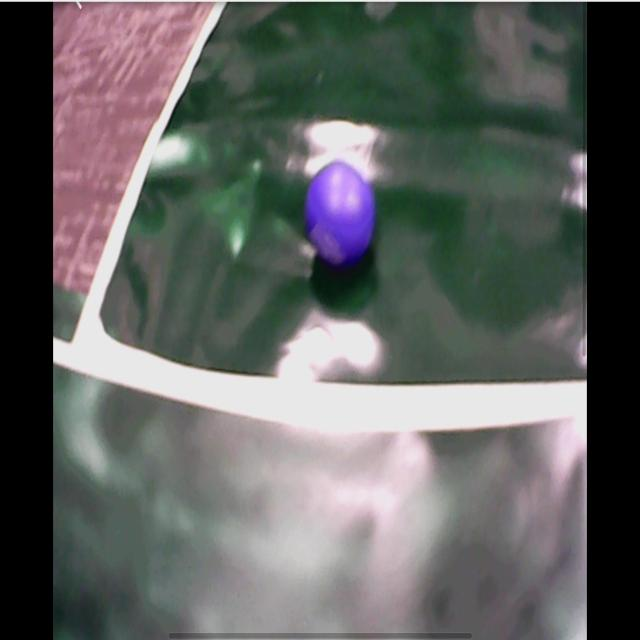ball: (310, 160, 374, 265)
